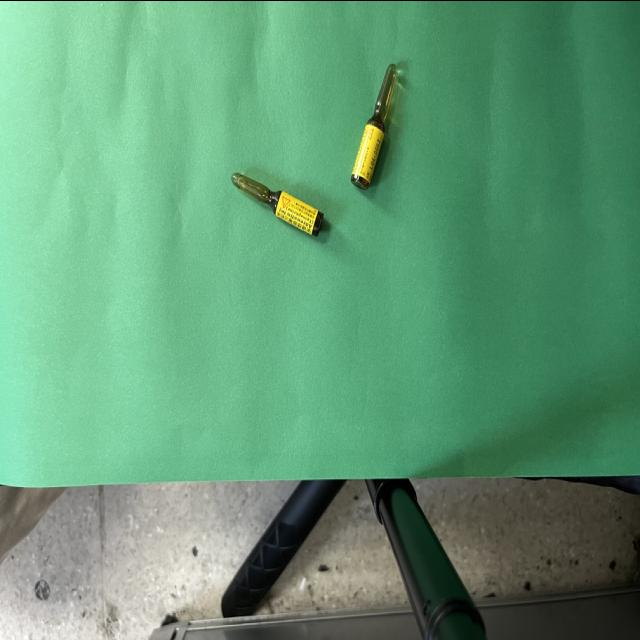Ampoules: (231, 172, 323, 236), (350, 63, 396, 189)
